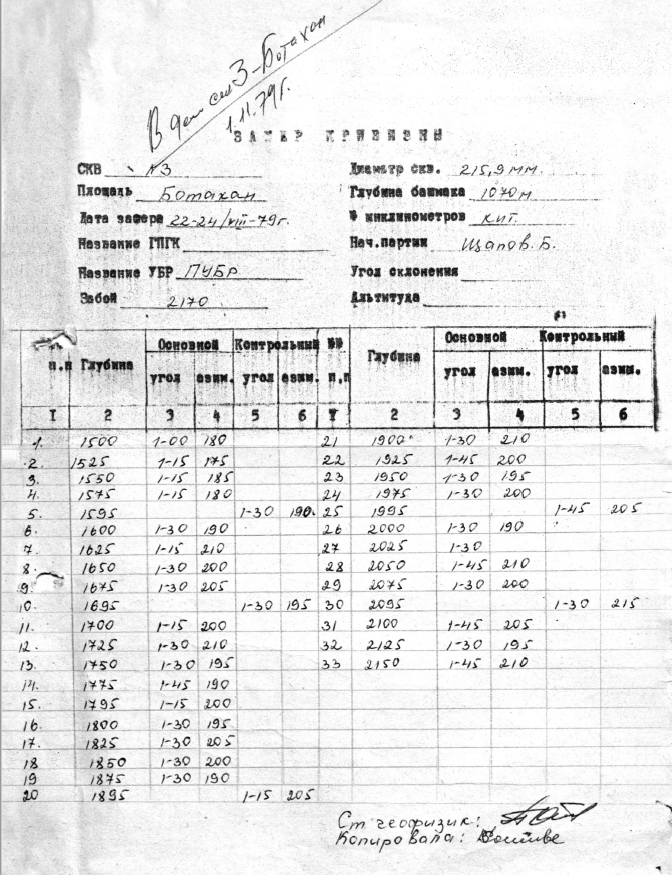Bordered: (5, 328, 672, 810)
